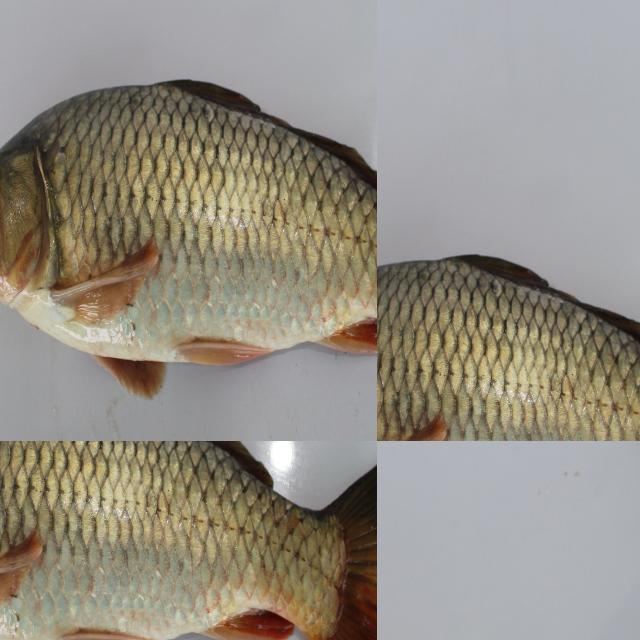fish: (0, 0, 377, 441)
